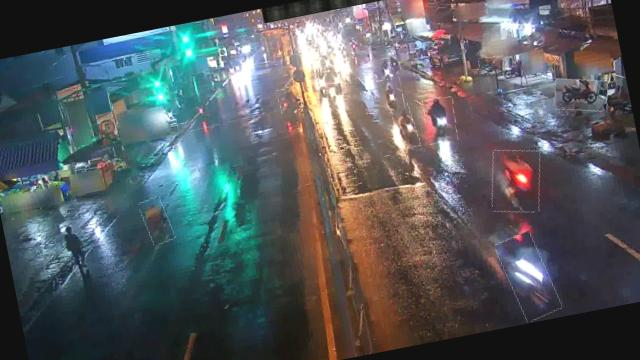Bike: (496, 229, 560, 323), (484, 144, 547, 218), (550, 72, 611, 118), (422, 95, 459, 145), (140, 195, 174, 246), (391, 102, 420, 150), (376, 77, 406, 113), (277, 85, 303, 114), (477, 54, 507, 74), (378, 58, 392, 82), (390, 52, 400, 71)
